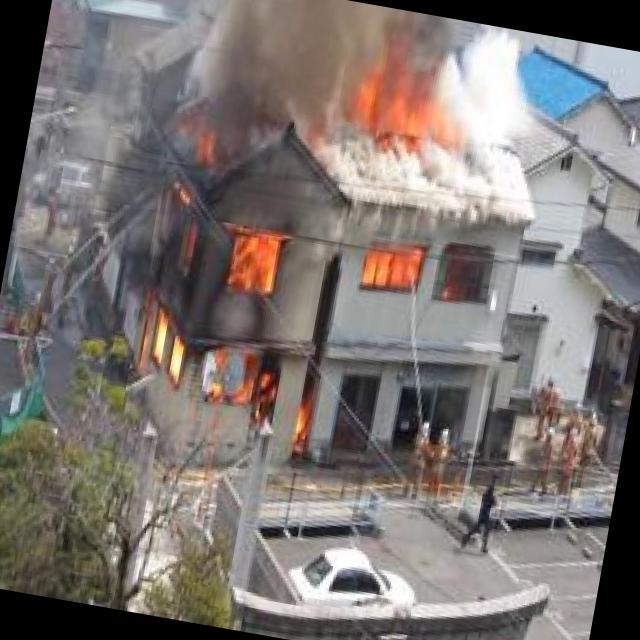Fire: (106, 186, 350, 453), (332, 24, 492, 171), (357, 232, 432, 302)
Smoke: (159, 0, 363, 183), (324, 142, 534, 255), (464, 25, 555, 181)
